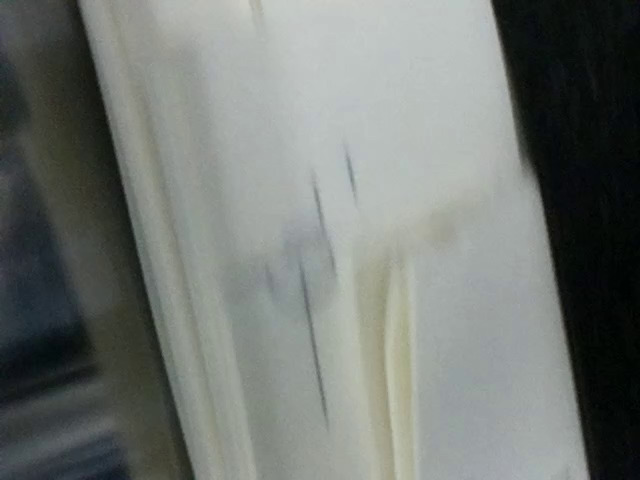not_sure: (212, 181, 351, 321)
